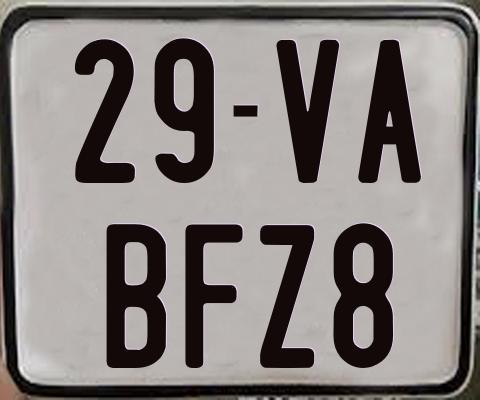2: (75, 37, 138, 187)
8: (331, 222, 396, 367)
9: (153, 37, 217, 188)
A: (355, 40, 421, 187)
B: (106, 221, 171, 370)
F: (182, 223, 242, 373)
V: (273, 39, 341, 188)
Z: (257, 223, 311, 372)
